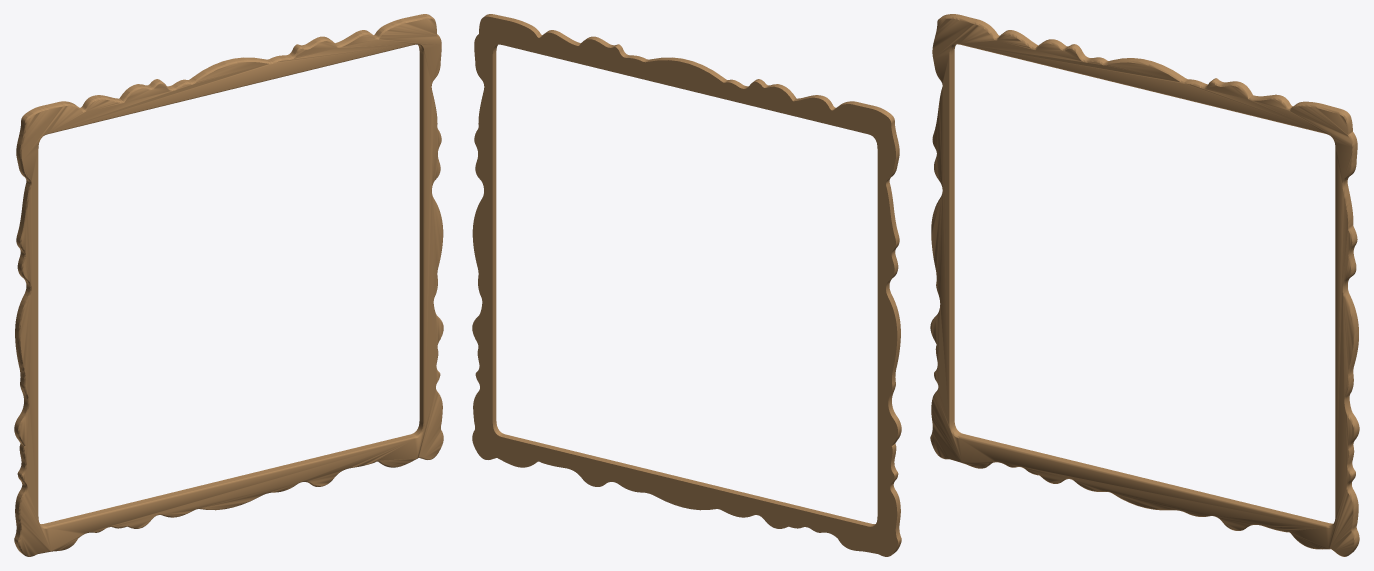
File: 갤러리액자.fbx
3 renders of one model, left to right at view 1: azimuth 30°, elevation 25°; view 2: azimuth 150°, elevation 25°; view 3: azimuth 330°, elevation 25°, orthographic.
Parts seen in each view (by area): view 1: 액자1; view 2: 액자1; view 3: 액자1.
Part boxes in pixels (x1,y1,x2,y2): 액자1: [14, 14, 443, 556]; 액자1: [472, 14, 901, 556]; 액자1: [930, 14, 1359, 556].
Bounding box in the file's own units: 7.95 × 7.98 × 0.1413.
